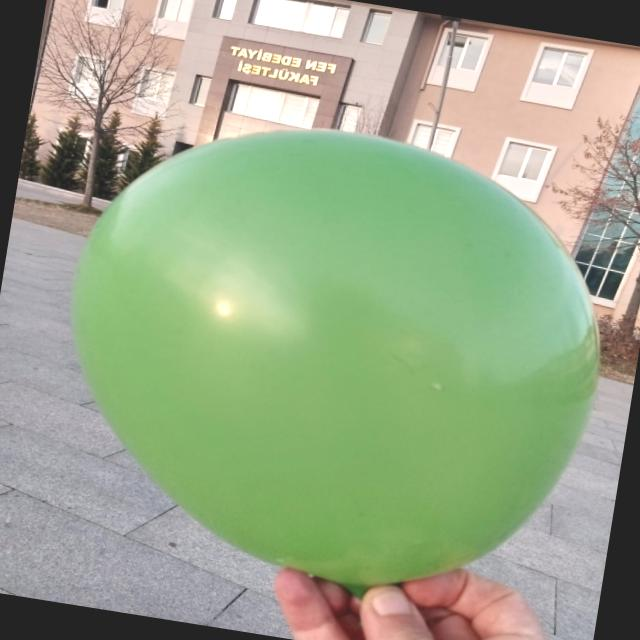balloon: (73, 130, 599, 593)
